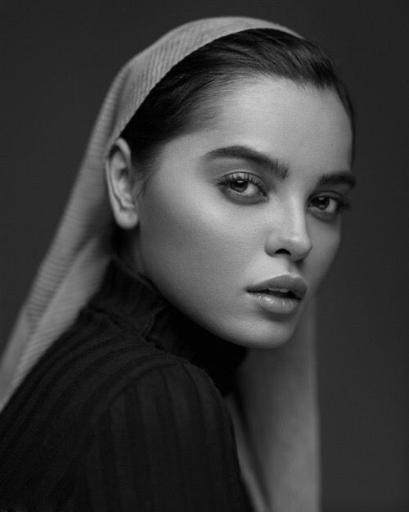left_eye: (307, 194, 348, 218)
left_lip_corner: (294, 288, 308, 311)
right_eye: (215, 173, 271, 209)
right_lip_corner: (244, 282, 260, 305)
